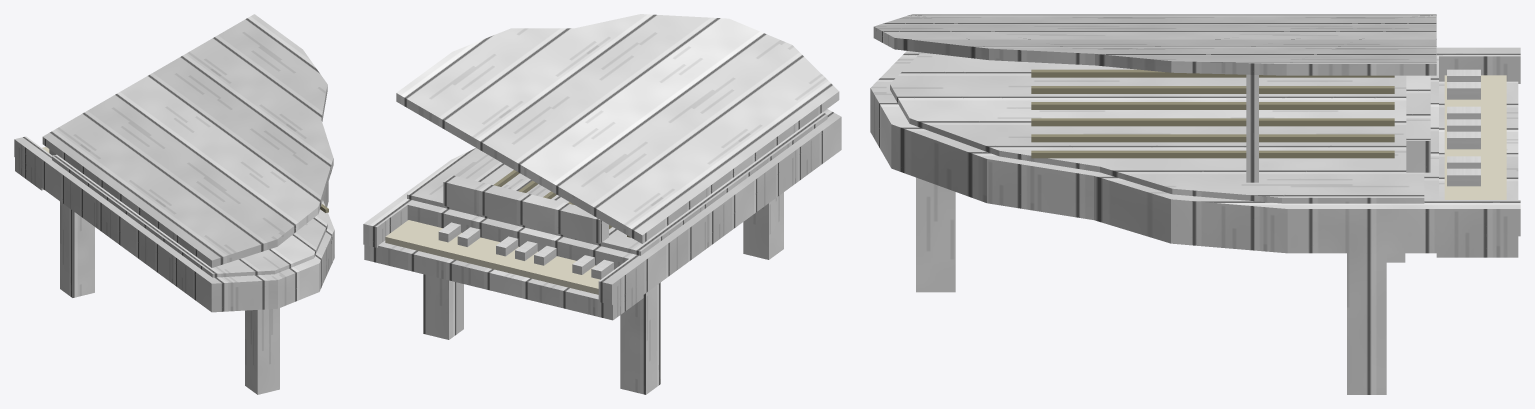
Rendered from harpsichord.obj.
3 views of the same model, side by side, from view 1: azimuth 30°, elevation 25°; view 2: azimuth 150°, elevation 25°; view 3: azimuth 270°, elevation 25° (orthographic). The views are drawn at different scales.
Parts seen in each view (by area): view 1: harpsichord; view 2: harpsichord; view 3: harpsichord.
Part boxes in pixels (left/top/right/bottom): harpsichord: left=14, top=14, right=334, bottom=394; harpsichord: left=363, top=14, right=841, bottom=394; harpsichord: left=870, top=14, right=1520, bottom=394.
Size of the model in its own units: 1.64 by 1.59 by 2.79.
